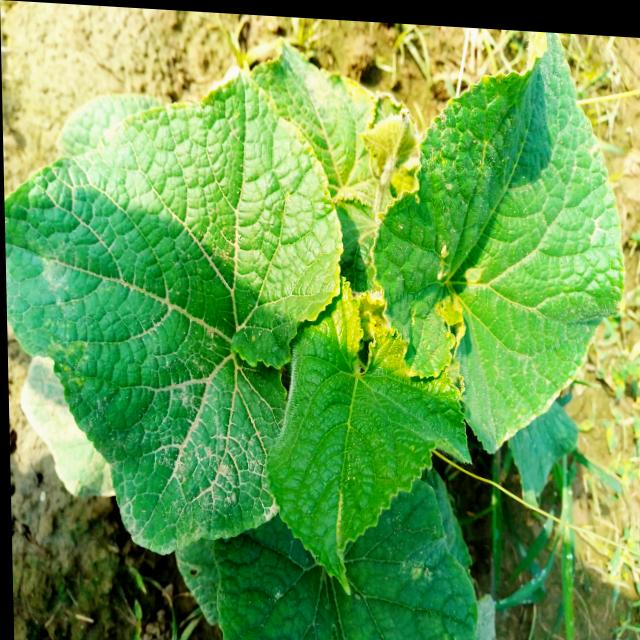Fresh-Leaf: (263, 280, 475, 594)
